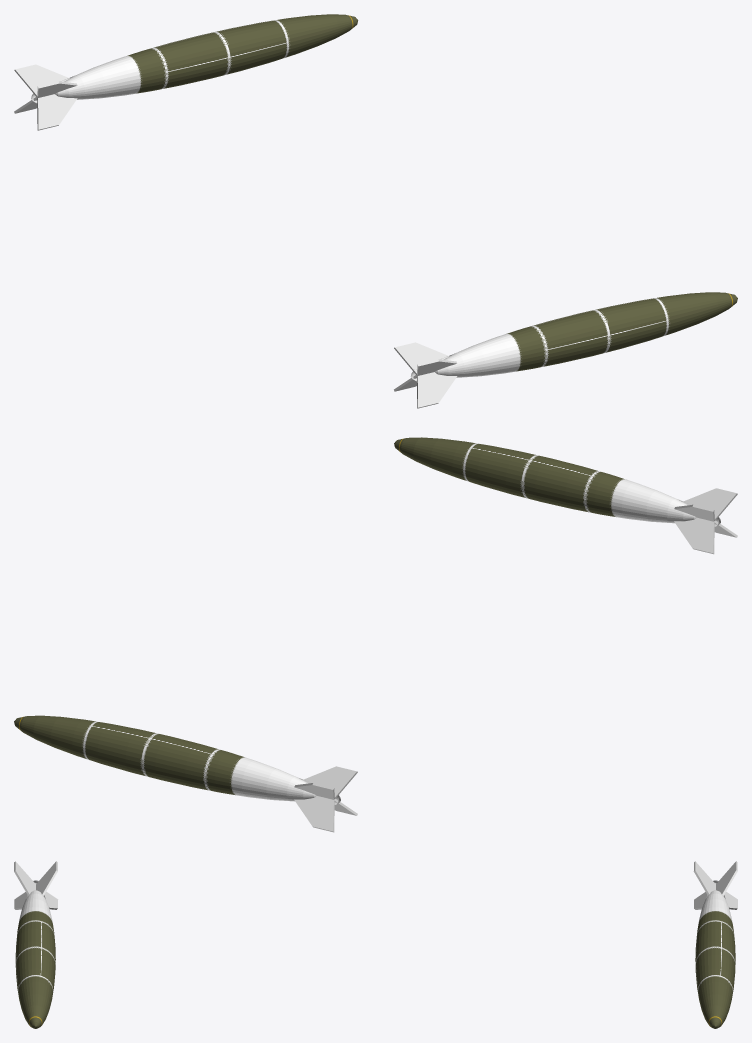
File: gbu31fa18e15.glb
3 renders of one model, top to bottom at view 1: azimuth 30°, elevation 25°; view 2: azimuth 150°, elevation 25°; view 3: azimuth 270°, elevation 25°, orthographic. The views are drawn at different scales.
Visible parts, largest first — view 1: 球, 球.001; view 2: 球.001, 球; view 3: 球, 球.001.
Part boxes in pixels (<box>): 球: <box>14,14,358,130</box>; 球.001: <box>394,292,737,408</box>; 球.001: <box>394,437,737,554</box>; 球: <box>14,715,357,832</box>; 球: <box>693,861,737,1028</box>; 球.001: <box>14,861,58,1028</box>.
Size of the model in its own units: 3.97 by 0.5109 by 8.37.
Materials: 1 (1 with a texture image).
